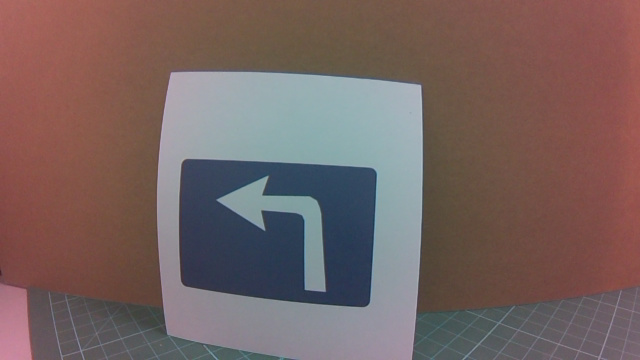left: (214, 151, 406, 319)
